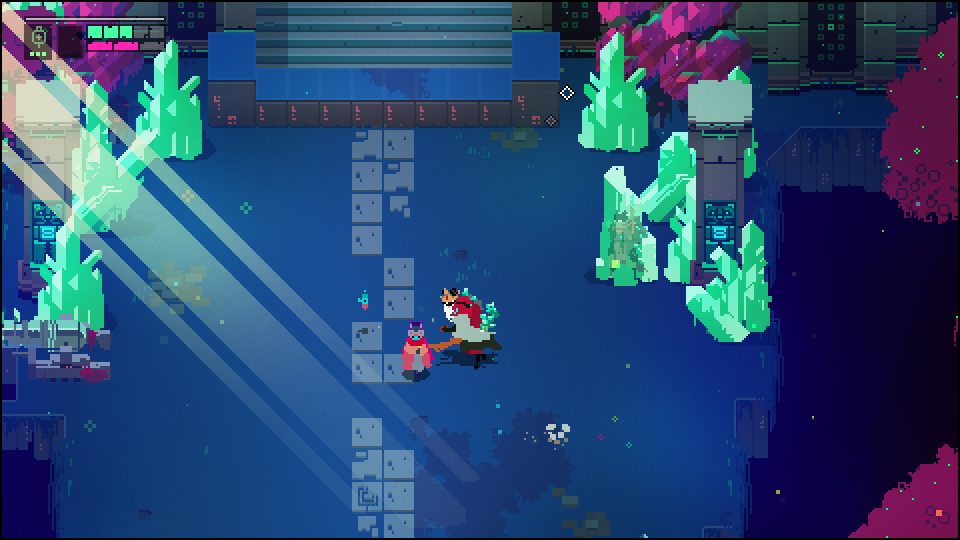hanged_man: (426, 286, 499, 368)
player: (402, 315, 431, 376)
